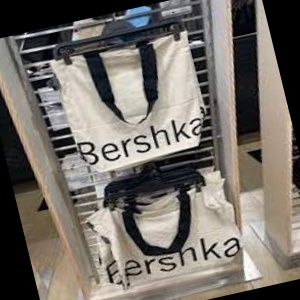bershka: (149, 49, 293, 300), (153, 47, 249, 173)
